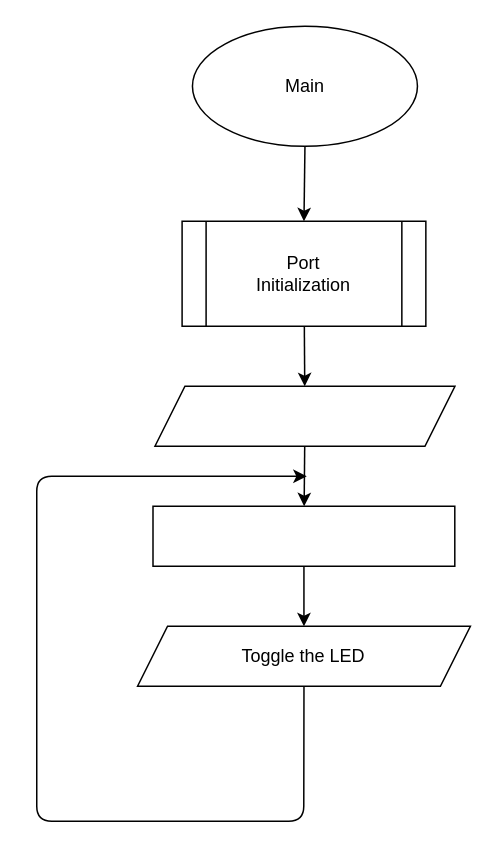
This 498x860 diagram has some shape labels left out. The shapes that lost their labels are listed below. From the top down, each one's centre as x and y in pixels, then its label:
At point 304,415: "Turn on the LED".
At point 303,535: "Delay 5 times slower".
